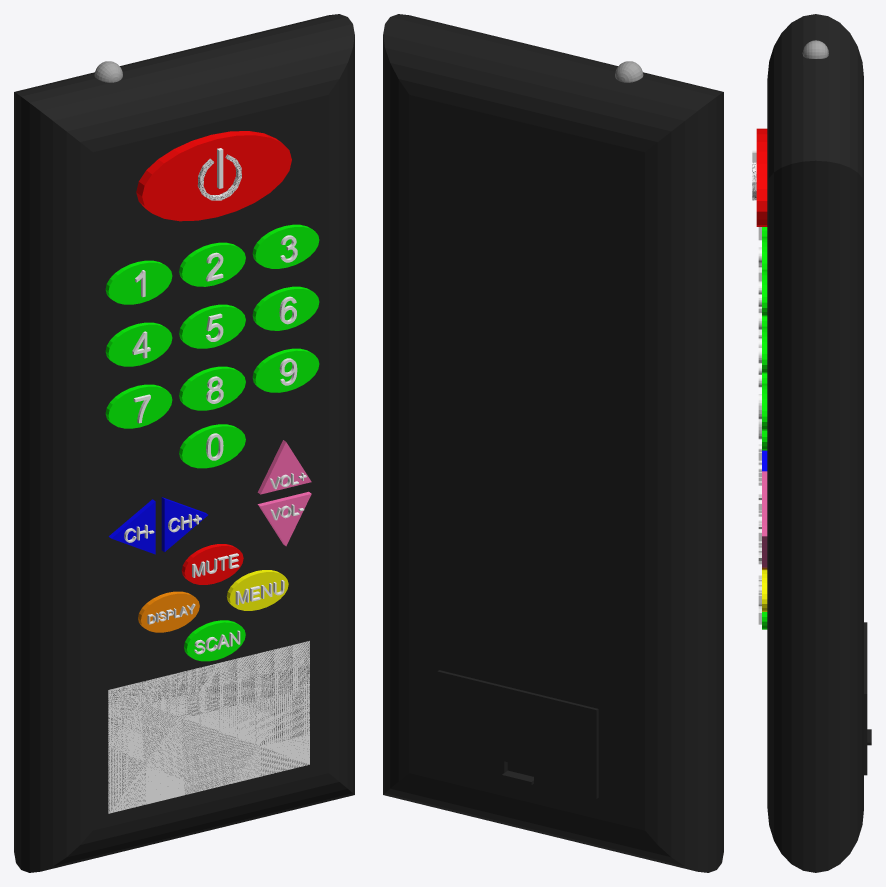
3 views of the same model, side by side, from view 1: azimuth 30°, elevation 25°; view 2: azimuth 150°, elevation 25°; view 3: azimuth 270°, elevation 25° (orthographic). The views are drawn at different scales.
Visible parts, largest first — view 1: big universal tv only remote; view 2: big universal tv only remote; view 3: big universal tv only remote.
Part boxes in pixels (<box>): big universal tv only remote: <box>14,14,354,872</box>; big universal tv only remote: <box>383,14,723,872</box>; big universal tv only remote: <box>752,14,871,872</box>.
Bounding box in the file's own units: 8.8 × 20.24 × 3.02.
